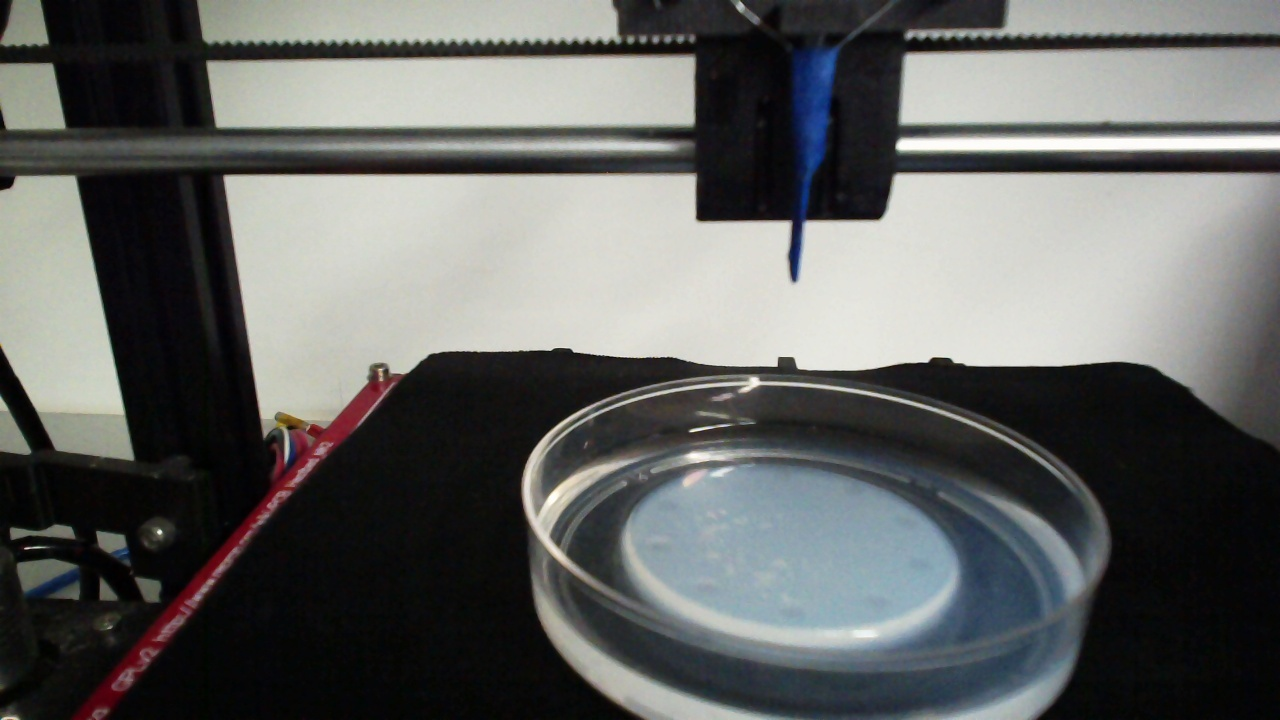groove: (774, 602, 807, 624), (769, 464, 799, 487), (862, 590, 893, 612), (644, 535, 674, 557), (905, 553, 935, 575), (892, 512, 923, 533), (693, 577, 722, 598), (653, 494, 680, 516), (841, 480, 867, 499)
needle: (788, 50, 837, 282)
